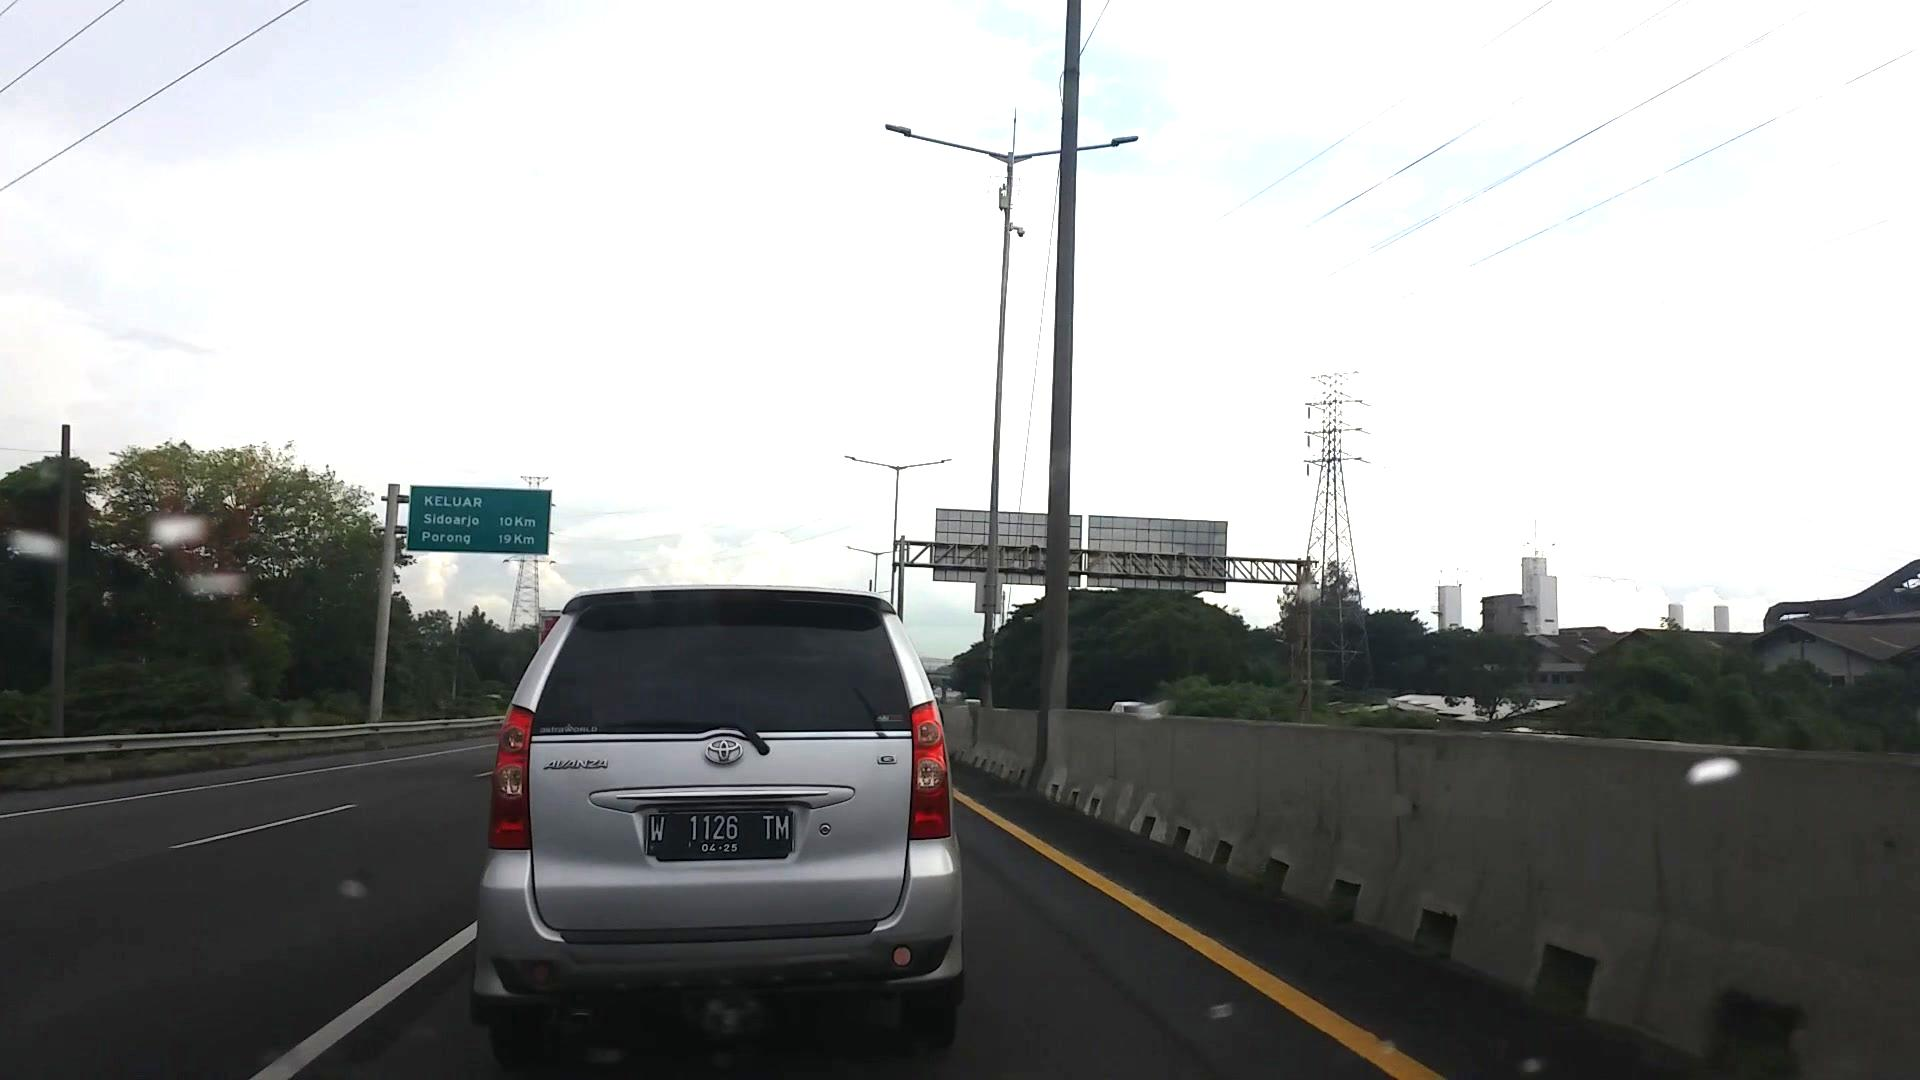plate_positive: (644, 812, 793, 855)
